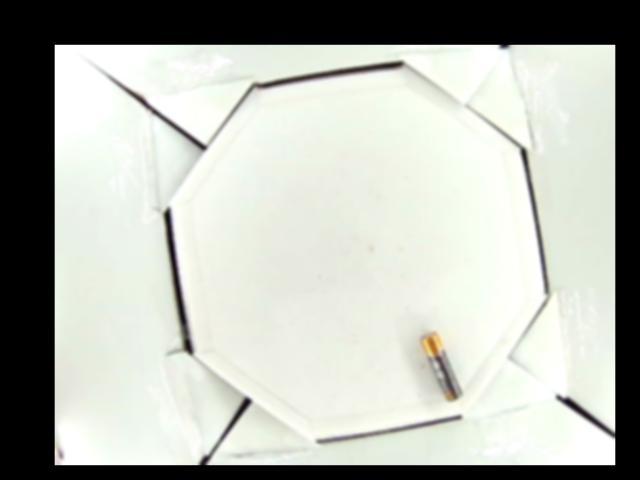Battery: (420, 332, 462, 403)
